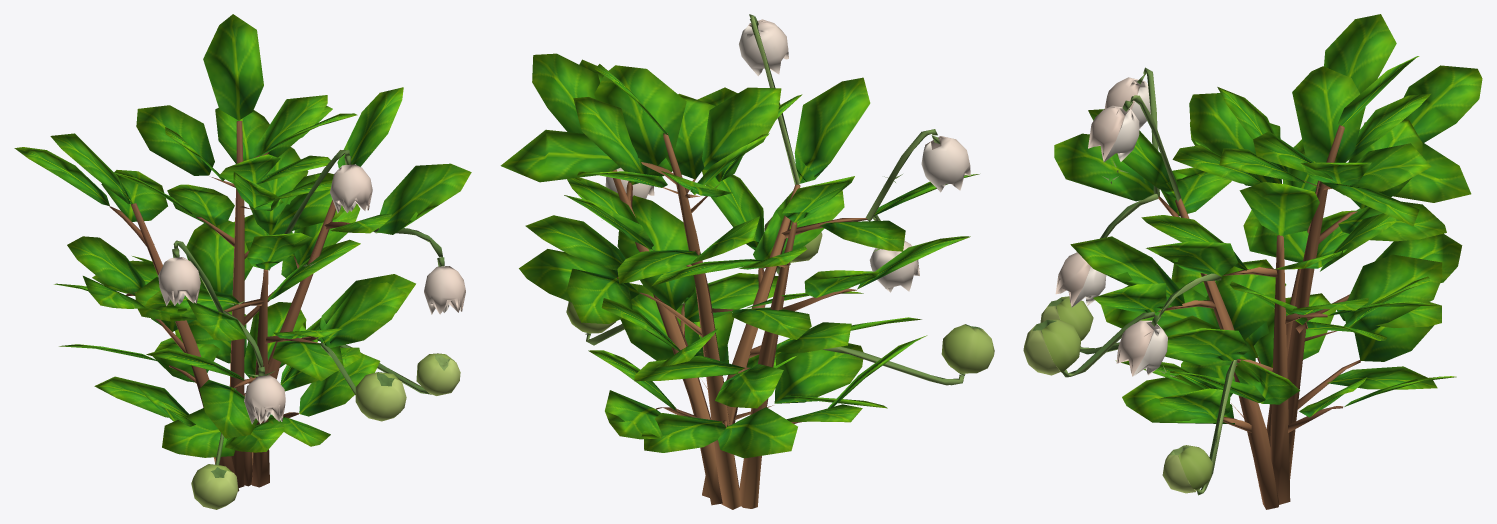
The model's file is NP_Blueberry_Flowering_LOD1.fbx.
3 views of the same model, side by side, from view 1: azimuth 30°, elevation 25°; view 2: azimuth 150°, elevation 25°; view 3: azimuth 270°, elevation 25° (orthographic). The views are drawn at different scales.
Parts seen in each view (by area): view 1: NP_Blueberry_Flowering; view 2: NP_Blueberry_Flowering; view 3: NP_Blueberry_Flowering.
Boxes of the visible parts, left/top/right/bottom form: NP_Blueberry_Flowering: left=14, top=14, right=471, bottom=509; NP_Blueberry_Flowering: left=500, top=14, right=994, bottom=509; NP_Blueberry_Flowering: left=1023, top=14, right=1482, bottom=509.
Size of the model in its own units: 65.65 by 72.77 by 64.14.
1 material, 1 textured.
